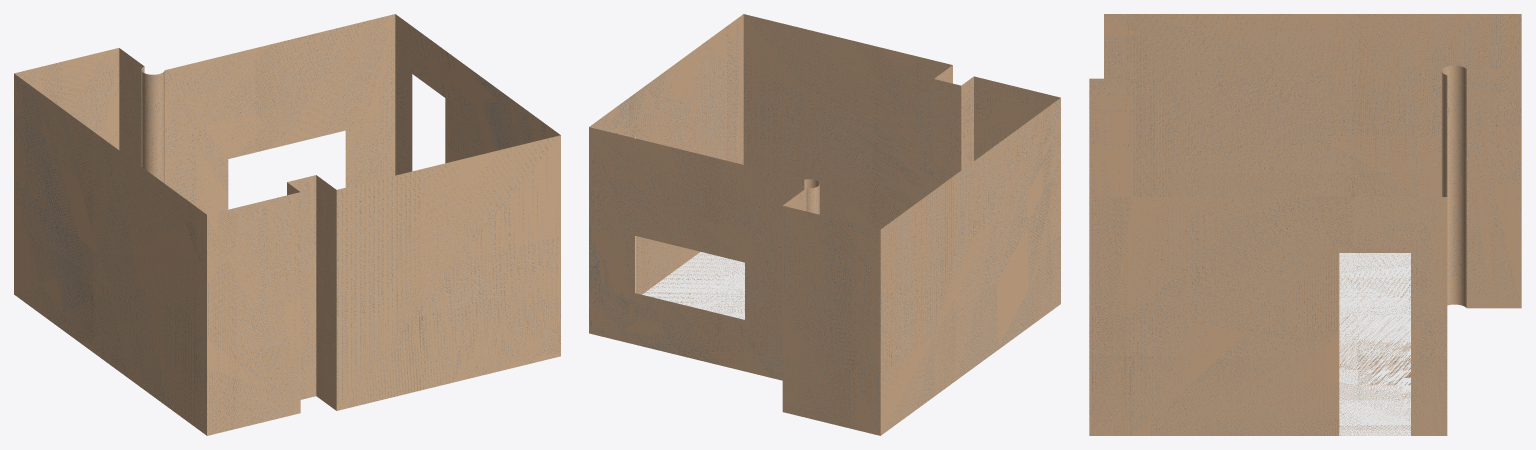
The model's file is DES026.obj.
3 views of the same model, side by side, from view 1: azimuth 30°, elevation 25°; view 2: azimuth 150°, elevation 25°; view 3: azimuth 270°, elevation 25° (orthographic). The views are drawn at different scales.
Visible parts, largest first — view 1: Mesh1 DES026 Model; view 2: Mesh1 DES026 Model; view 3: Mesh1 DES026 Model.
Boxes of the visible parts, bbox=[...] form: Mesh1 DES026 Model: bbox=[14, 14, 560, 435]; Mesh1 DES026 Model: bbox=[589, 14, 1060, 435]; Mesh1 DES026 Model: bbox=[1089, 14, 1521, 435].
Bounding box in the file's own units: 5.91 × 3.6 × 5.9.
Materials: 4 (2 with a texture image).
